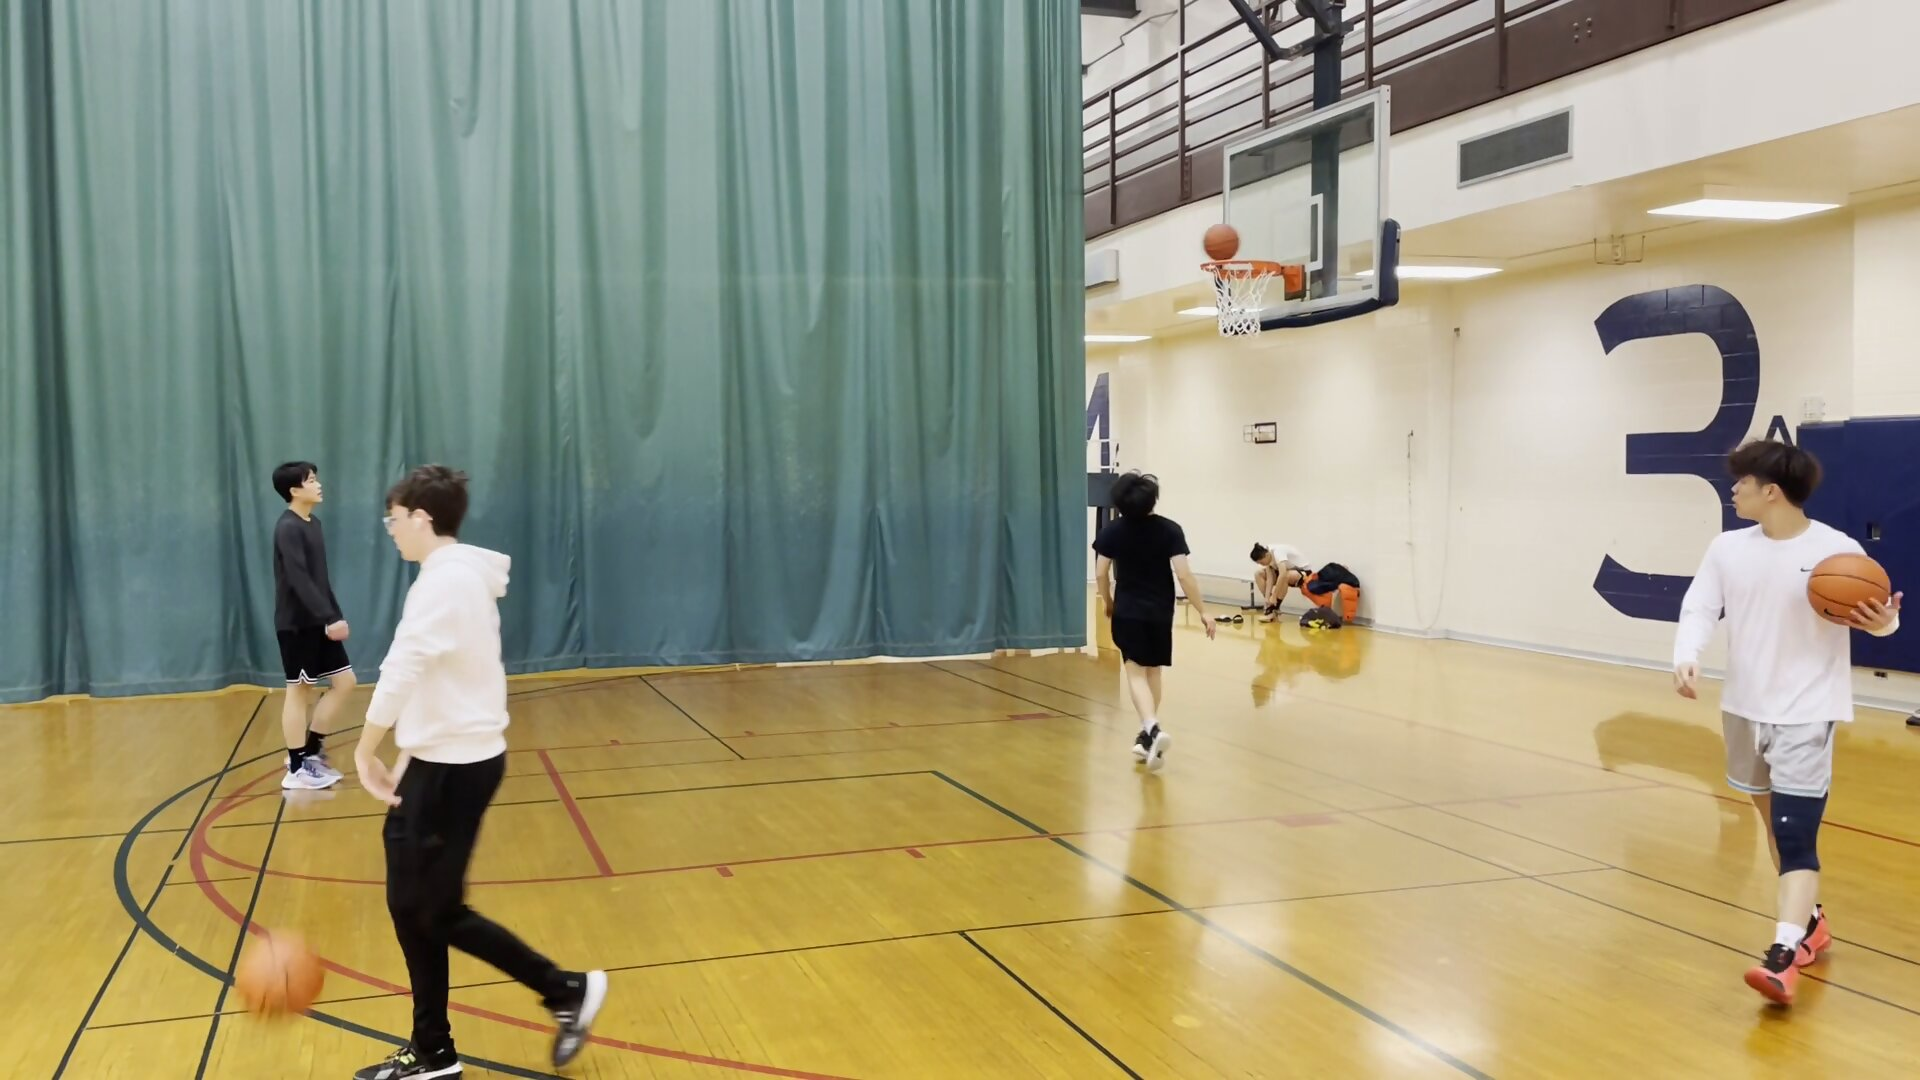ball: (234, 927, 324, 1022), (1805, 548, 1893, 632), (1193, 255, 1283, 276), (1200, 222, 1240, 260)
net: (1207, 312, 1270, 341)
player: (354, 460, 607, 1080), (1674, 439, 1877, 1016), (260, 458, 357, 806), (1089, 476, 1195, 772), (1248, 544, 1308, 626)
